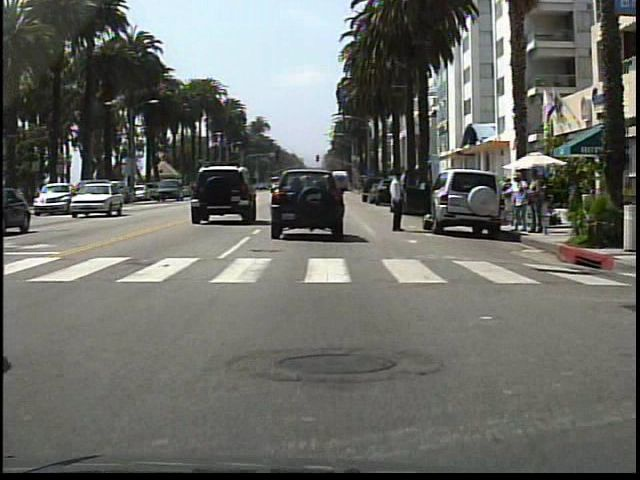person: (385, 164, 414, 235), (525, 164, 545, 237), (505, 166, 525, 235)
